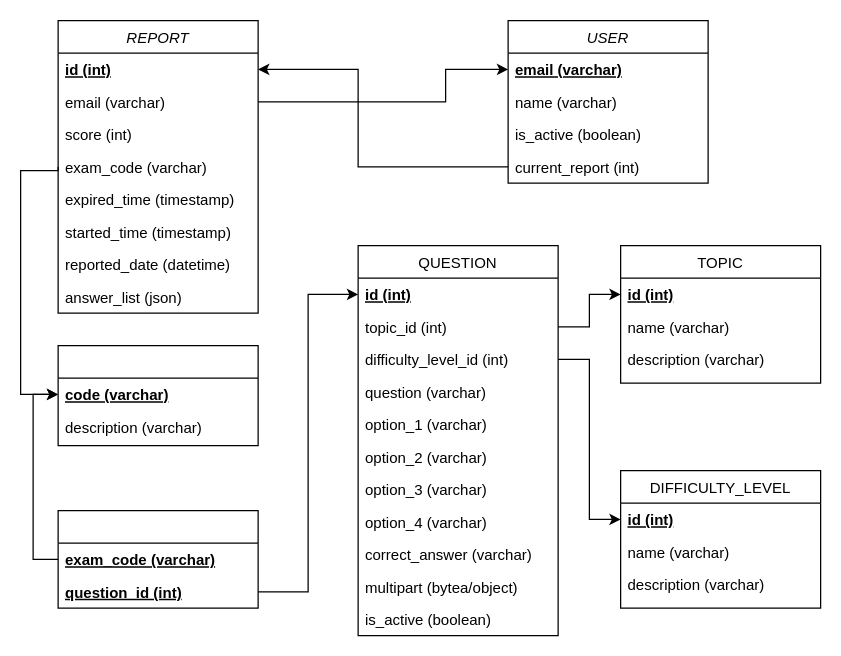
Some shapes in this 841 by 656 pixel diagram are drawn without their labels. Each missing label, with the box of its shape:
EXAM: (57, 344, 258, 446)
EXAM_QUESTION: (57, 509, 258, 608)
